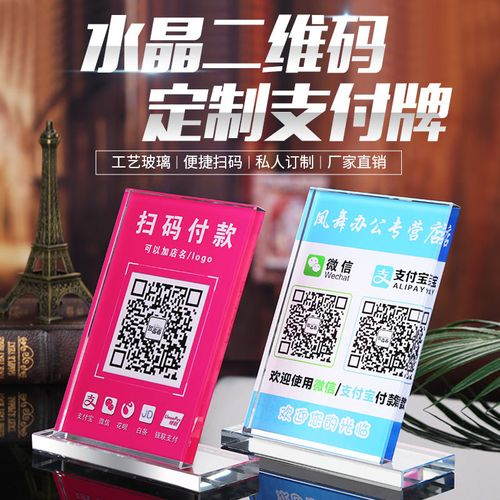QRCode: (107, 269, 208, 383), (347, 293, 430, 388), (279, 284, 347, 367)
